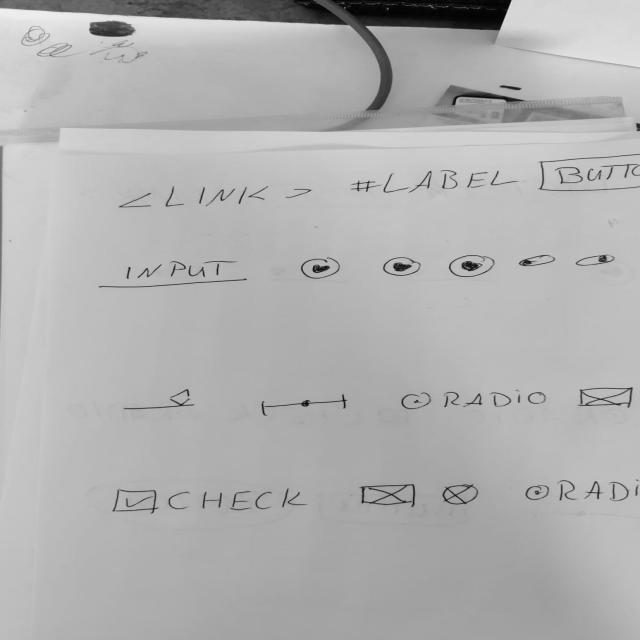button: (535, 151, 640, 193)
checkbox: (109, 488, 311, 516)
icon-button: (446, 253, 499, 281), (377, 255, 427, 279), (299, 256, 345, 282)
image: (358, 484, 420, 508), (576, 387, 638, 409), (442, 485, 482, 507)
input: (96, 258, 252, 292)
label: (346, 168, 525, 198)
link: (113, 185, 315, 211)
number-input: (122, 389, 200, 413)
radio: (401, 389, 549, 413), (525, 479, 640, 505)
slider: (253, 393, 355, 417)
toggle: (572, 255, 621, 269), (516, 254, 561, 269)
